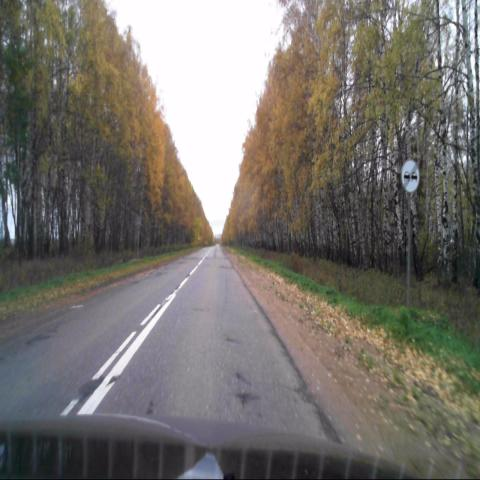3_21: (400, 159, 420, 195)
